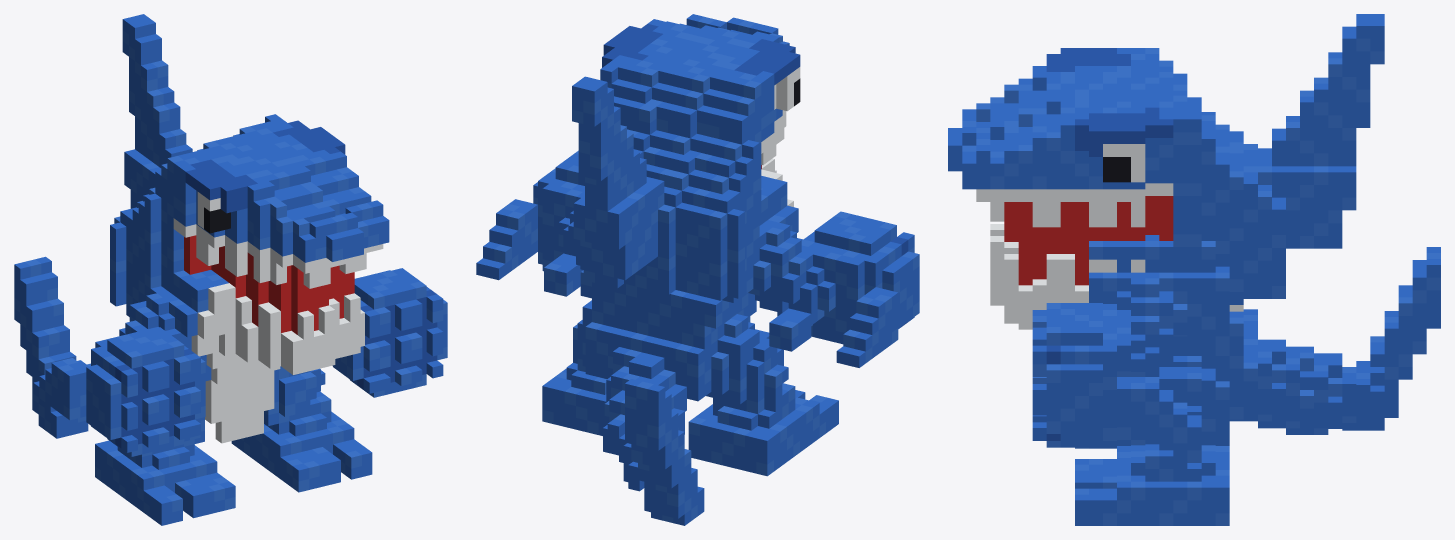
Rendered from z3_t3_perrole.fbx.
3 renders of one model, left to right at view 1: azimuth 30°, elevation 25°; view 2: azimuth 150°, elevation 25°; view 3: azimuth 270°, elevation 25°, orthographic. The views are drawn at different scales.
Visible parts, largest first — view 1: Head_b1, Body_b1, Head_white, FistR_b1, Upper_b1, Head_b5, Body_b5, FistL_b1, Head_red, FistR_b5, Body_white, Head_b2 (+6 smaller); view 2: Body_b1, Head_b1, Upper_b1, FistR_b1, Head_b5, Body_b5, FistL_b1, Upper_b5, FistR_b5, Head_b2, FistL_b5, Head_white; view 3: Head_b1, Body_b1, Upper_b1, FistL_b1, Head_white, Head_b5, Body_b5, Upper_b5, Head_red, FistL_b5, Head_b2, Head_ink.
Boxes of the visible parts, x1,y1,x2,y2 form: Head_b1: [110, 114, 389, 306]; Body_b1: [14, 256, 372, 525]; Head_white: [173, 192, 383, 374]; FistR_b1: [33, 295, 205, 454]; Upper_b1: [122, 14, 228, 380]; Head_b5: [110, 126, 378, 305]; Body_b5: [14, 259, 361, 516]; FistL_b1: [332, 268, 447, 394]; Head_red: [184, 235, 354, 334]; FistR_b5: [39, 293, 205, 456]; Body_white: [205, 370, 274, 443]; Head_b2: [185, 120, 345, 213]; Body_b1: [542, 300, 838, 525]; Head_b1: [595, 14, 789, 300]; Upper_b1: [572, 76, 798, 349]; FistR_b1: [753, 214, 919, 367]; Head_b5: [583, 17, 787, 295]; Body_b5: [542, 316, 827, 522]; FistL_b1: [476, 153, 584, 293]; Upper_b5: [572, 99, 792, 346]; FistR_b5: [748, 211, 919, 362]; Head_b2: [602, 23, 800, 85]; FistL_b5: [494, 150, 582, 296]; Head_white: [761, 67, 800, 172]; Head_b1: [948, 48, 1285, 304]; Body_b1: [1075, 247, 1440, 525]; Upper_b1: [1089, 14, 1384, 368]; FistL_b1: [1032, 272, 1201, 447]; Head_white: [976, 144, 1243, 329]; Head_b5: [962, 48, 1285, 298]; Body_b5: [1075, 253, 1440, 525]; Upper_b5: [1089, 38, 1384, 368]; Head_red: [1004, 196, 1173, 285]; FistL_b5: [1032, 278, 1201, 447]; Head_b2: [1046, 48, 1173, 156]; Head_ink: [1103, 157, 1130, 182].
Bounding box in the file's own units: 7.48 × 7.7 × 7.7.
